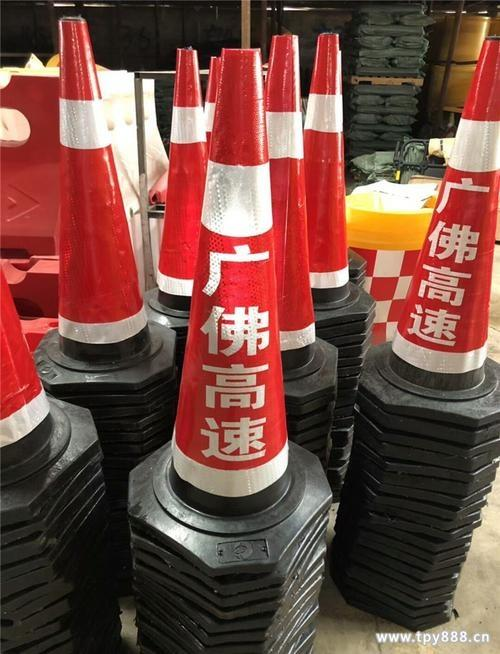cone_barrel: (152, 55, 305, 528), (370, 38, 499, 401), (51, 16, 158, 366), (263, 33, 326, 382), (260, 39, 318, 311), (301, 32, 357, 304), (151, 46, 206, 314)
